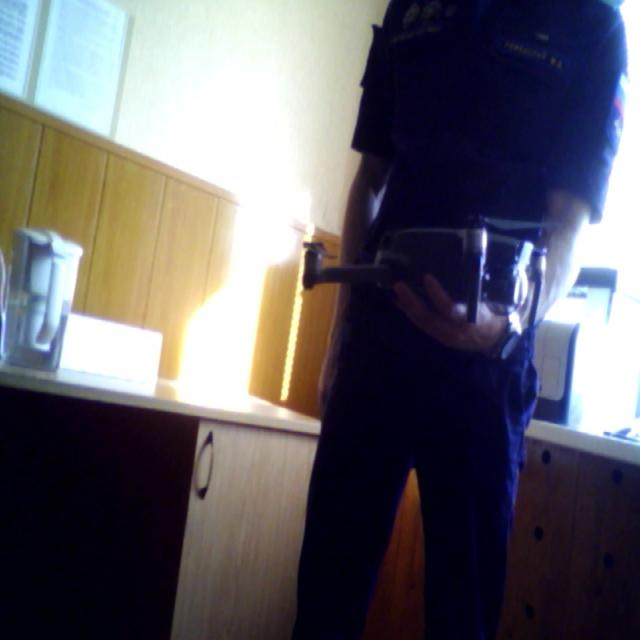drone: (281, 184, 626, 362)
